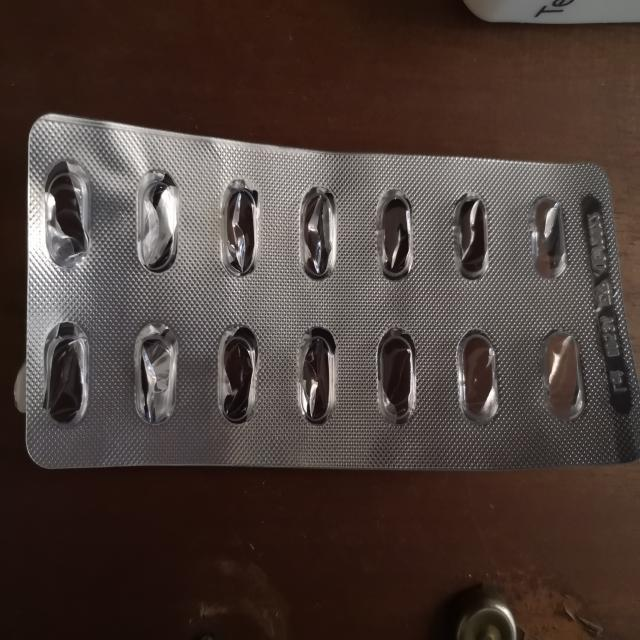Empty: (38, 150, 95, 276), (39, 318, 96, 436), (130, 160, 186, 280), (448, 324, 508, 428), (127, 316, 182, 429), (289, 321, 347, 427), (210, 317, 264, 429), (216, 169, 266, 287), (368, 320, 422, 429), (292, 181, 346, 290), (536, 322, 588, 422), (372, 184, 422, 284), (446, 186, 496, 285), (525, 186, 573, 284)
